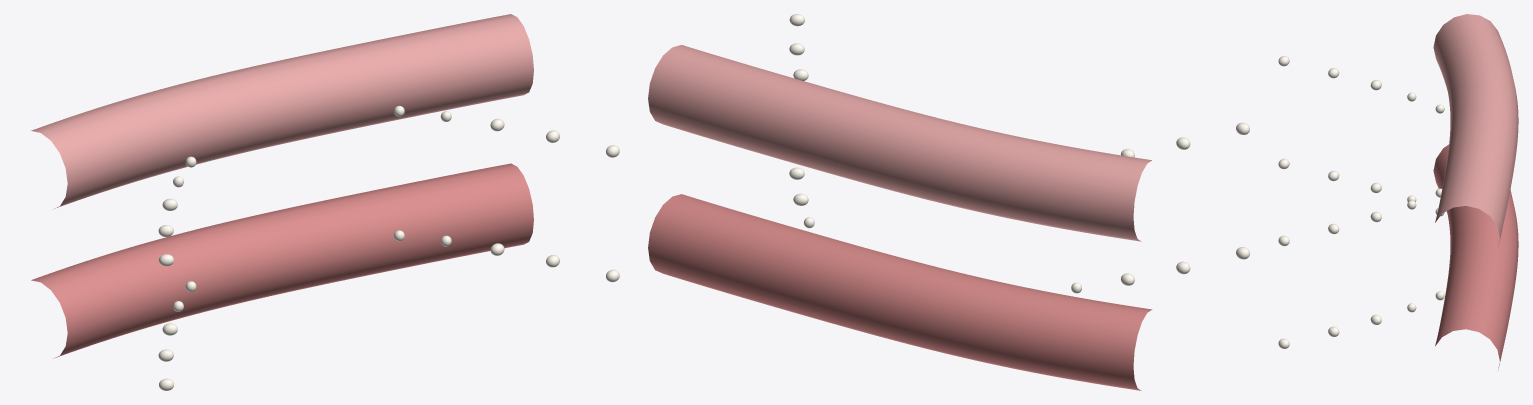
File: dental-model.glb
3 renders of one model, left to right at view 1: azimuth 30°, elevation 25°; view 2: azimuth 150°, elevation 25°; view 3: azimuth 270°, elevation 25°, orthographic. The views are drawn at different scales.
Visible parts, largest first — view 1: gum_upper, gum_lower; view 2: gum_lower, gum_upper; view 3: gum_upper, gum_lower.
Boxes of the visible parts, left/top/right/bottom form: gum_upper: left=31, top=14, right=533, bottom=209; gum_lower: left=31, top=163, right=533, bottom=358; gum_lower: left=648, top=194, right=1152, bottom=390; gum_upper: left=648, top=45, right=1151, bottom=241; gum_upper: left=1433, top=14, right=1518, bottom=245; gum_lower: left=1433, top=144, right=1518, bottom=370.
Bounding box in the file's own units: 8.17 × 3.6 × 4.23.
